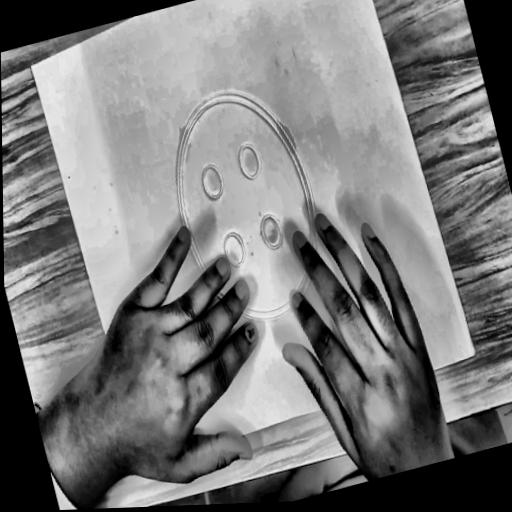bottom_left: (140, 457, 148, 468)
bottom_right: (469, 344, 482, 361)
button: (141, 59, 352, 358)
top_left: (26, 59, 36, 74)
